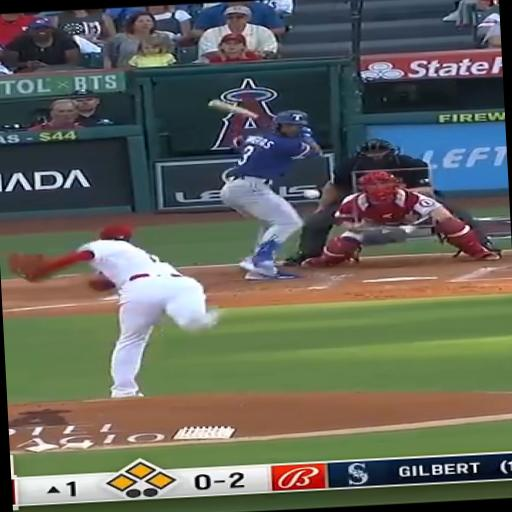bat: (209, 100, 258, 118)
